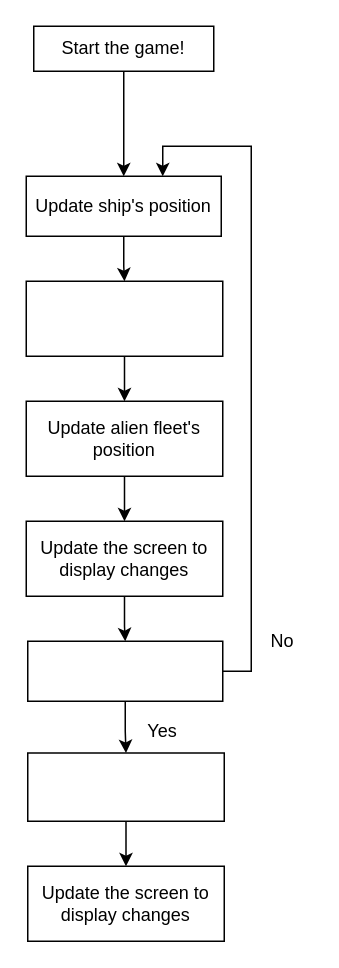
This 339x968 diagram has some shape labels left out. Each missing label, with the box of its shape:
Draw play button again so player can restart: (26, 752, 224, 821)
Player lost yet?: (26, 640, 223, 701)
Update bullet's position: (25, 280, 223, 356)
